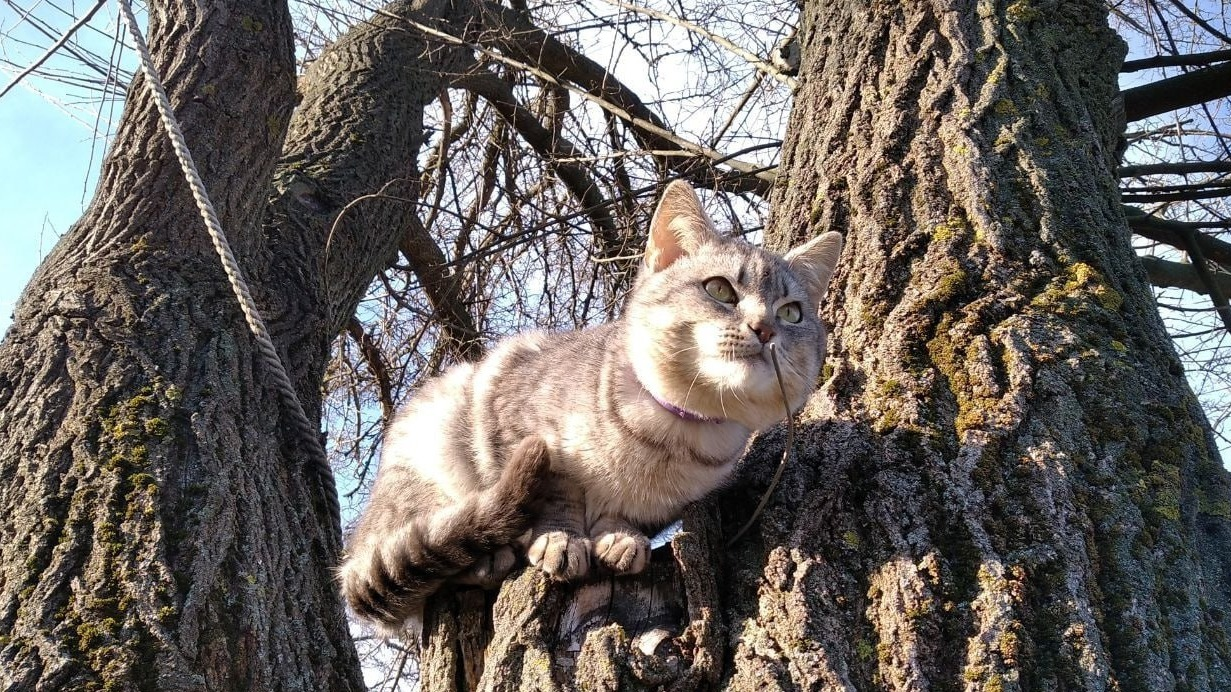cat: (354, 173, 847, 598)
